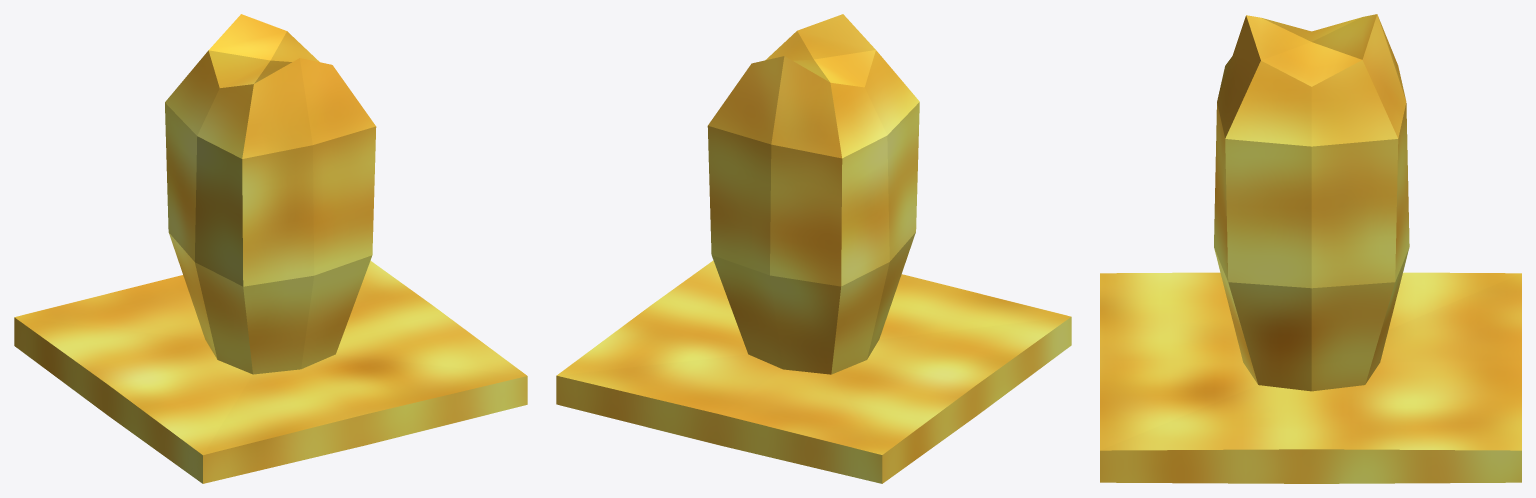
The model's file is Pillar Destroyed 2.fbx.
The picture shows the model from 3 angles, left to right: view 1: azimuth 30°, elevation 25°; view 2: azimuth 150°, elevation 25°; view 3: azimuth 270°, elevation 25°; orthographic projection. The views are drawn at different scales.
Parts seen in each view (by area): view 1: 1x1 Pillar destroyed 1; view 2: 1x1 Pillar destroyed 1; view 3: 1x1 Pillar destroyed 1.
Part boxes in pixels (left/top/right/bottom): 1x1 Pillar destroyed 1: left=14, top=14, right=527, bottom=483; 1x1 Pillar destroyed 1: left=556, top=14, right=1071, bottom=483; 1x1 Pillar destroyed 1: left=1100, top=14, right=1521, bottom=483.
Size of the model in its own units: 197 by 197 by 198.
Materials: 1 (1 with a texture image).
